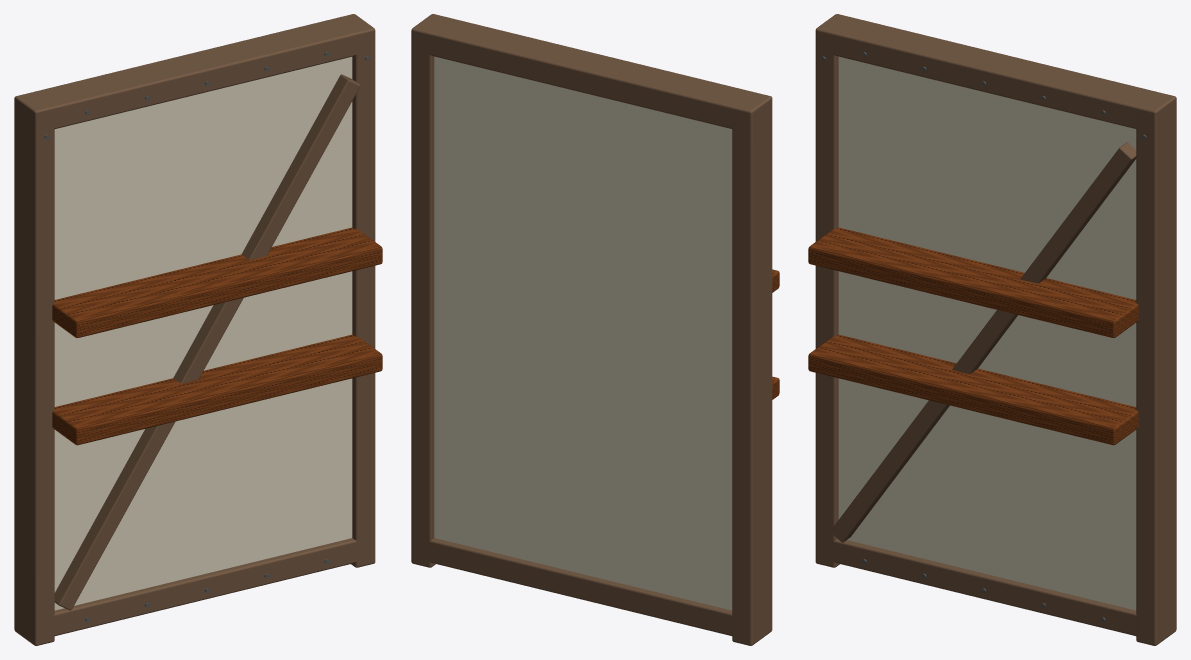
Rendered from adventurers-tavern-and-guild-hall-bar-back-wall-08522174__24683.glb.
The picture shows the model from 3 angles, left to right: view 1: azimuth 30°, elevation 25°; view 2: azimuth 150°, elevation 25°; view 3: azimuth 330°, elevation 25°; orthographic projection.
Visible parts, largest first — view 1: bar-back-wall; view 2: bar-back-wall; view 3: bar-back-wall.
Part boxes in pixels (x1,y1,x2,y2): bar-back-wall: (14, 14, 382, 645); bar-back-wall: (411, 14, 779, 645); bar-back-wall: (808, 14, 1176, 645).
Size of the model in its own units: 2 by 3 by 0.4651.
4 materials, 1 textured.
